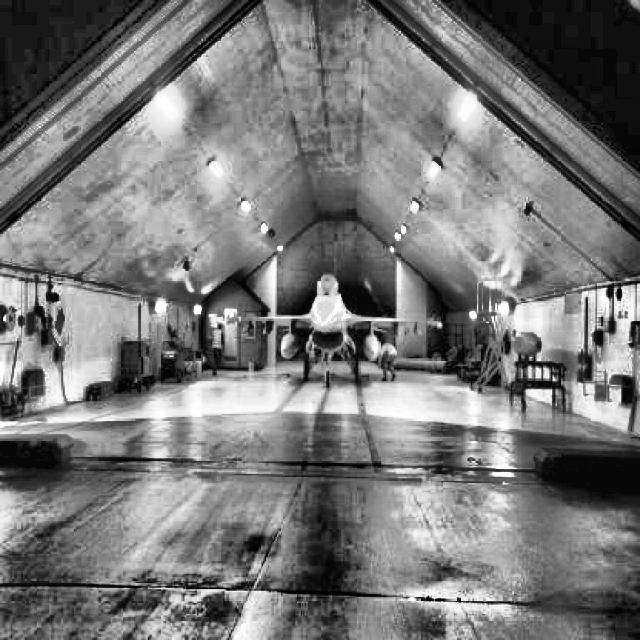F16: (222, 232, 443, 388)
